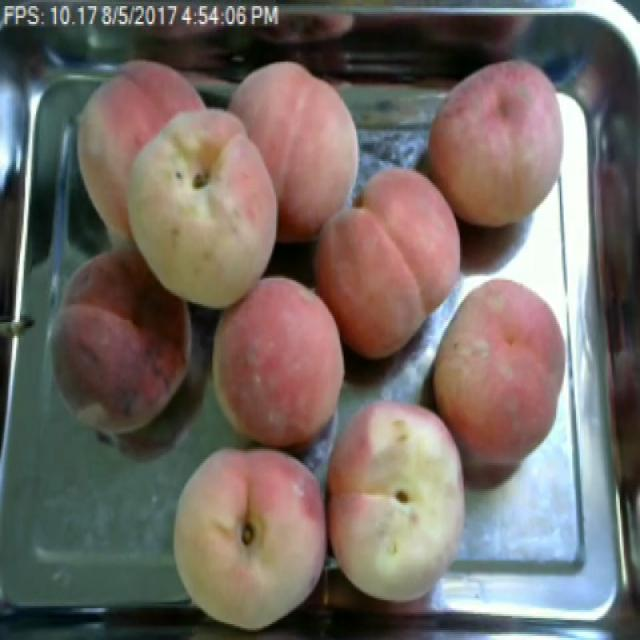Fruit: (115, 95, 292, 320), (300, 157, 476, 374), (32, 239, 207, 453), (417, 264, 580, 485), (159, 431, 329, 638), (326, 386, 482, 610), (198, 266, 362, 463), (418, 49, 578, 240), (223, 52, 372, 250)
